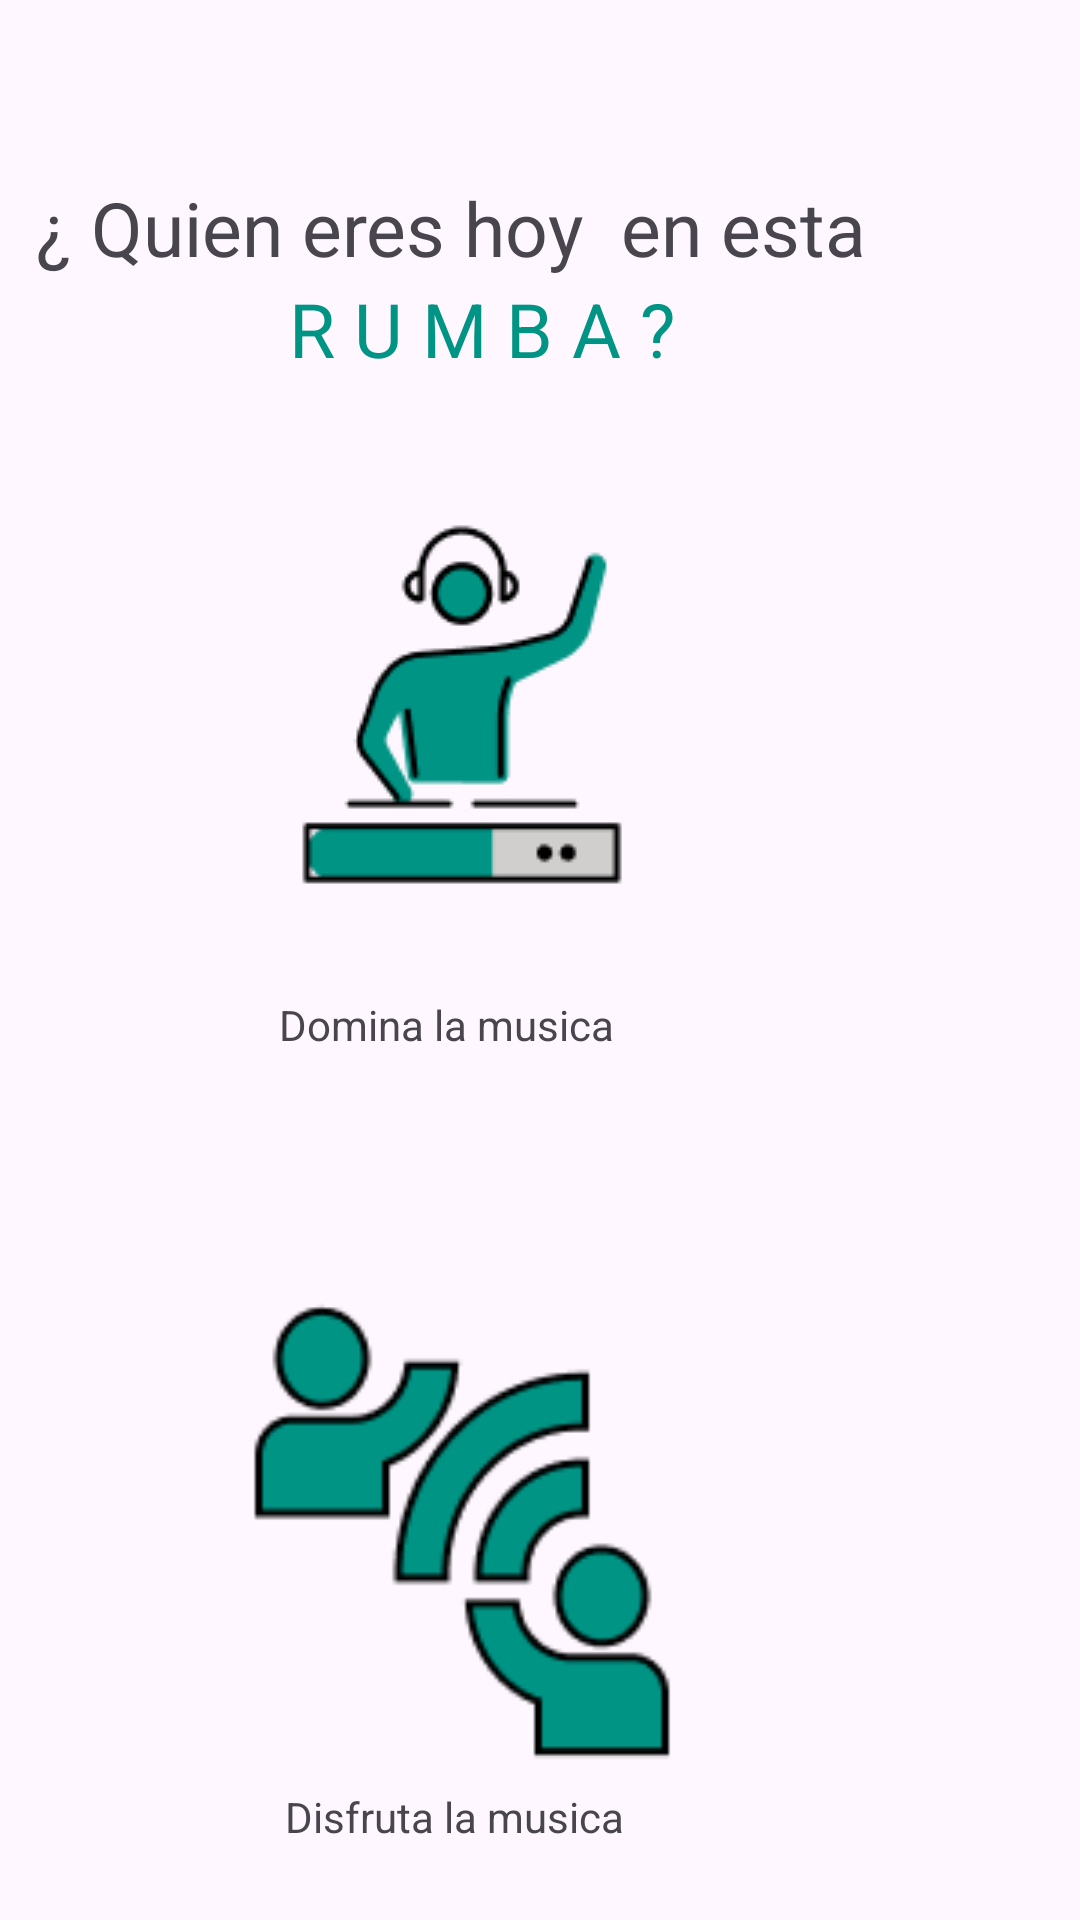

Named icons in this screenshot (1080px×1920px) and their centers, point (x, y):
openmoji dj: point (462, 704)
